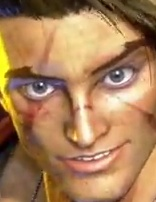kevin: (4, 0, 155, 201)
